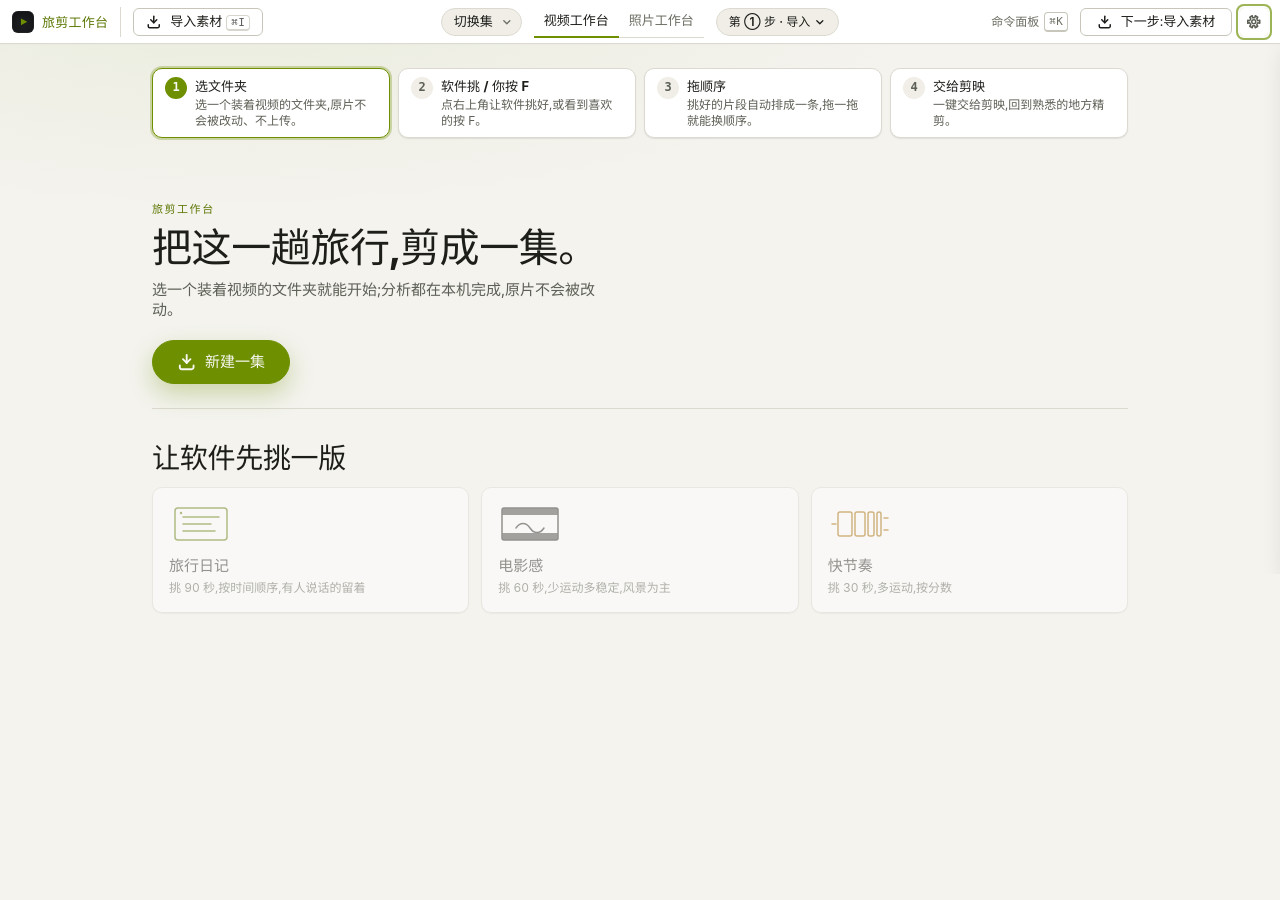
Test: R10 U-24:Whisper 模型缺失态 › 摘要不匹配:错误原文以 role=alert 显示,按钮恢复可点
What coordinates should you click on to do the following:
click the button named "设置"
I would click on:
 (1254, 22)
Its box is [1240,8,1268,36].
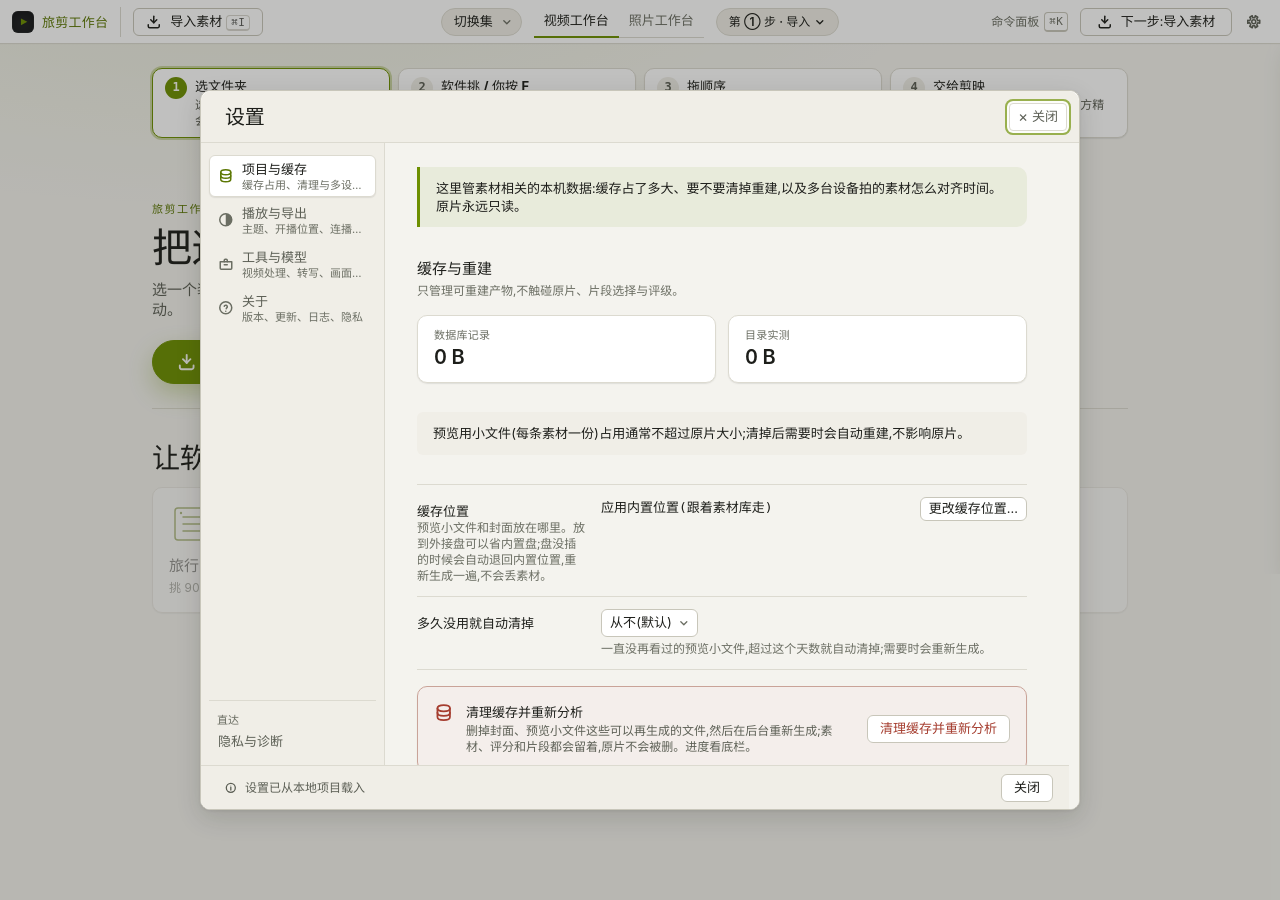
Check: the message reads "设置已从本地项目载入", box [245,780,365,794]
What coordinates should you click on to do the following:
click the tab "工具与模型 视频处理、转写、画面识别、云端补镜"
I would click on:
 (292, 264)
Its box is [209,243,376,285].
(page scrolled)
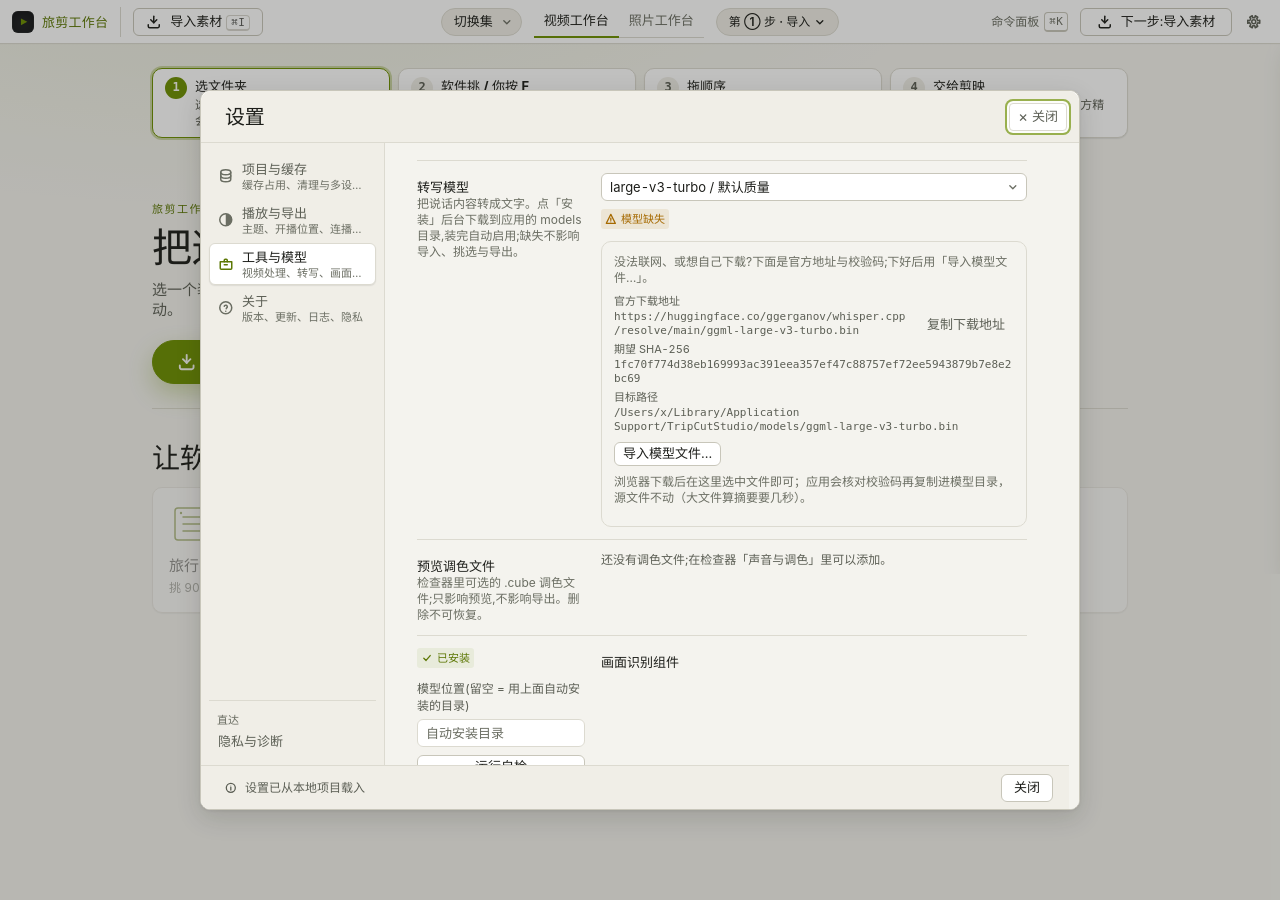
What coordinates should you click on to do the following:
click the button "导入模型文件…"
I would click on:
 (668, 454)
Its box is [614,442,721,466].
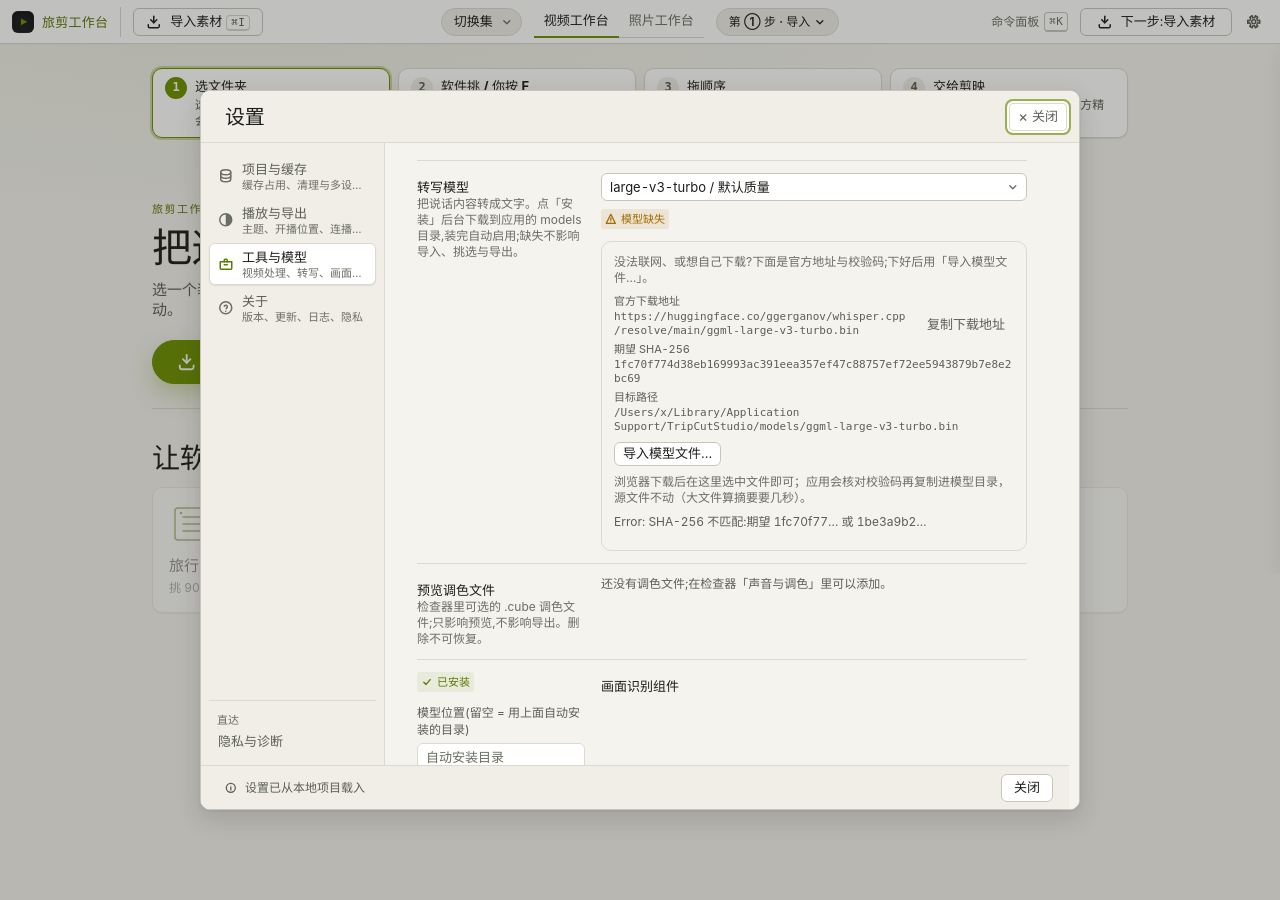
Check: the button "导入模型文件…" is enabled, box [614,442,721,466]
Check: the message "Error: SHA-256 不匹配:期望 1fc70f77… 或 1be3a9b2…" is shown, box [614,514,927,529]
